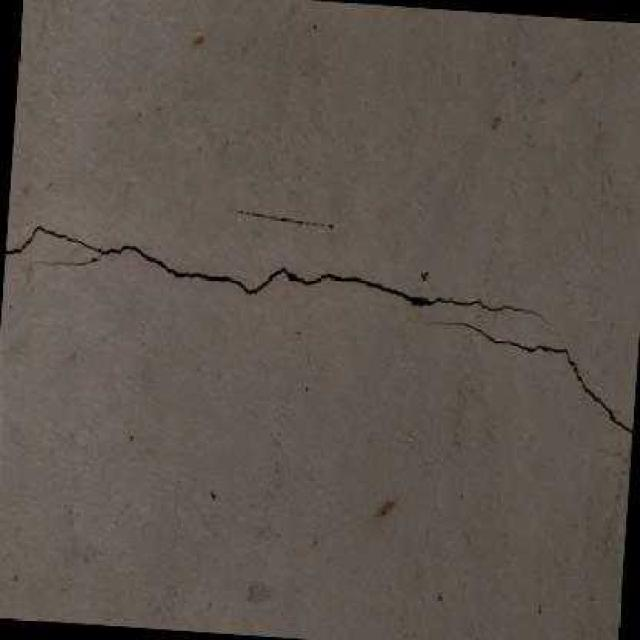D00: (4, 224, 537, 314), (459, 321, 633, 436)
